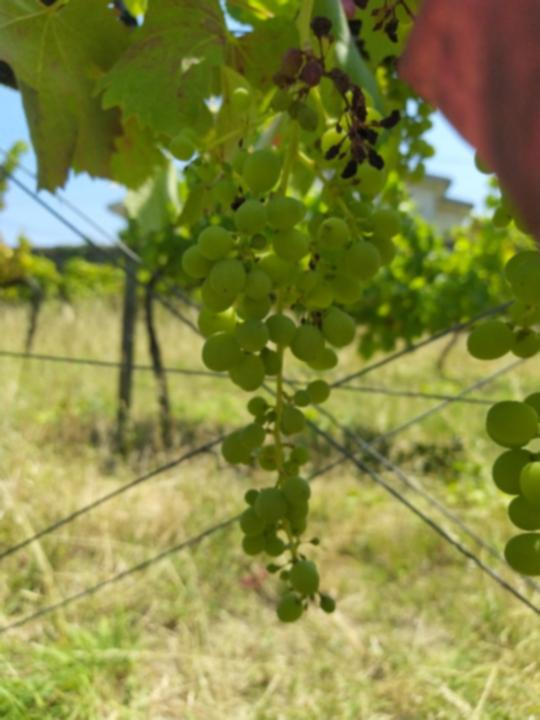grape: (165, 85, 403, 624), (268, 4, 432, 178)
